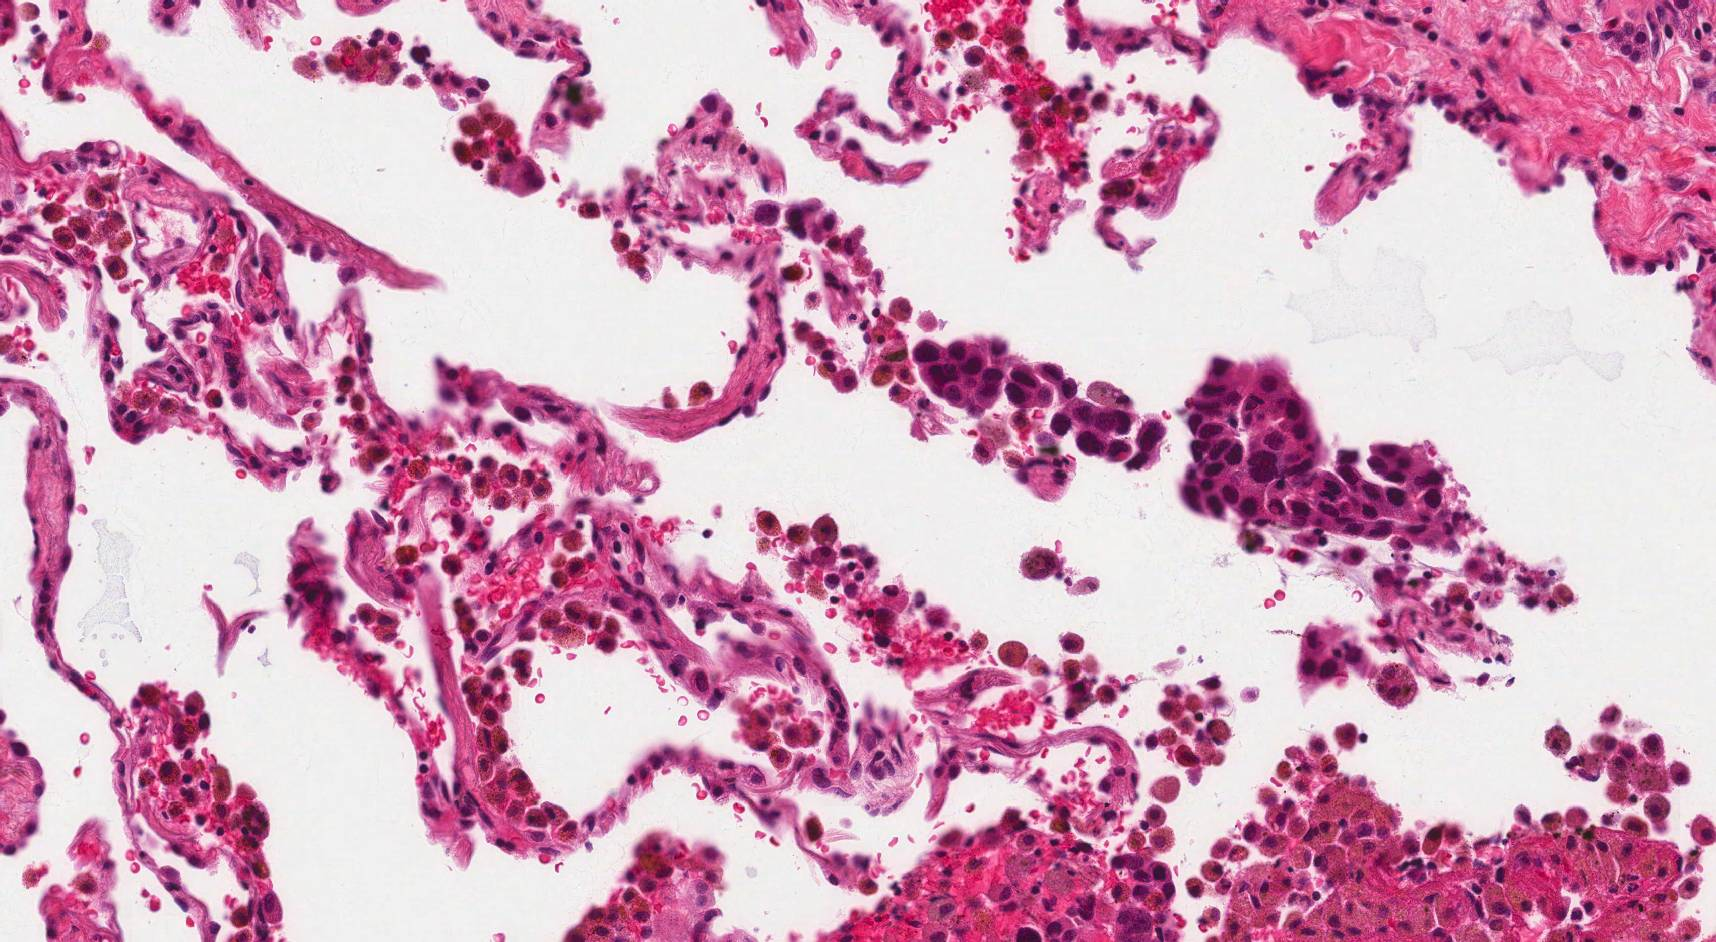stas: (1178, 356, 1476, 548), (914, 333, 1167, 472), (1295, 627, 1369, 685)
